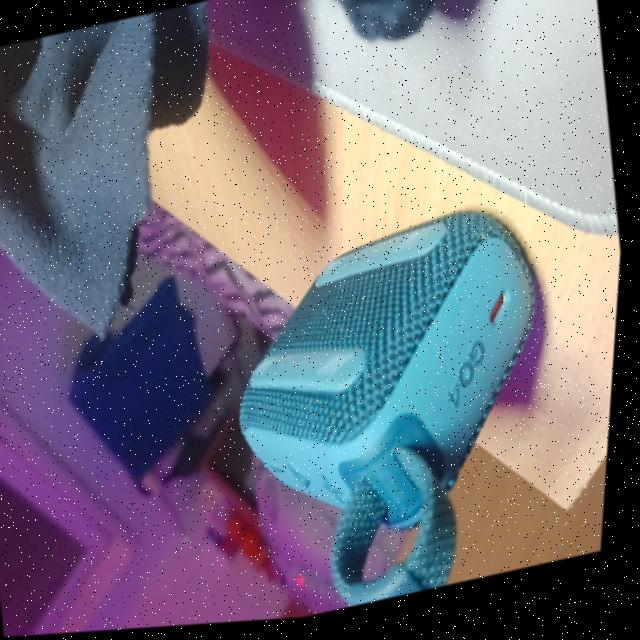column JBL: (206, 195, 593, 627)
